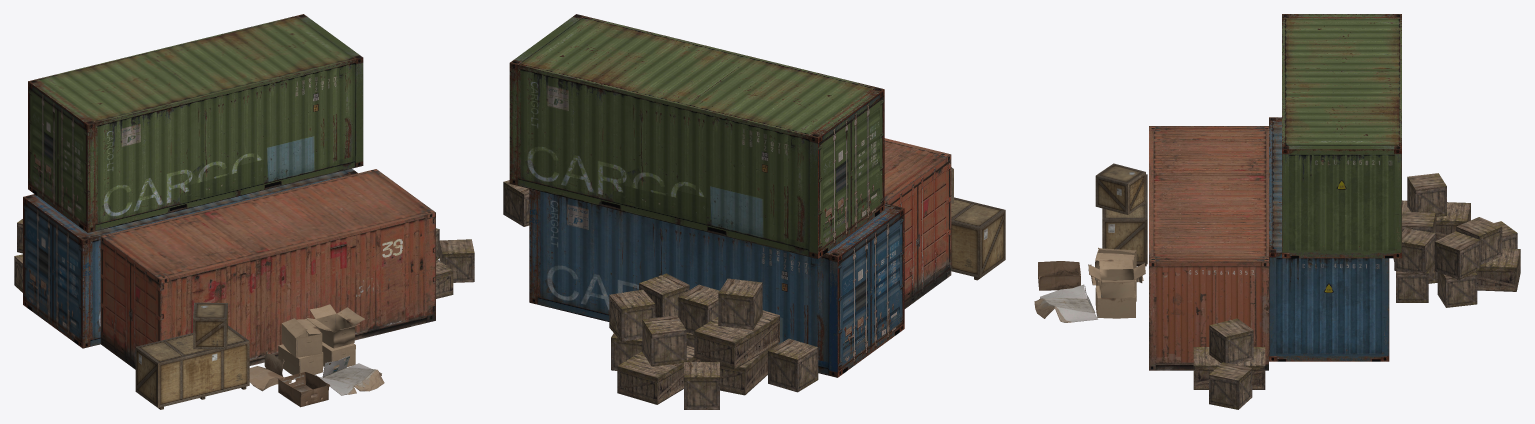
The picture shows the model from 3 angles, left to right: view 1: azimuth 30°, elevation 25°; view 2: azimuth 150°, elevation 25°; view 3: azimuth 270°, elevation 25°; orthographic projection. The views are drawn at different scales.
Visible parts, largest first — view 1: Cargo_container_v1_LD1close (82), MS98(Clone), Cargo_container_v1_LD1close (56), Dirty_cardboard_box_set3 (3), Wooden_box_v2_2 (19), Wooden_box_v1_LD1_SET1 (48), Wooden_box_v2_1 (24), Wooden_box_v1_LD1_SET5 (28); view 2: Cargo_container_v1_LD1close (82), Cargo_container_v1_LD1close (56), Wooden_box_v1_LD1_SET5 (28), MS98(Clone), Wooden_box_v2_2 (19), Wooden_box_v1_LD1_SET1 (48); view 3: Cargo_container_v1_LD1close (82), MS98(Clone), Cargo_container_v1_LD1close (56), Wooden_box_v1_LD1_SET5 (28), Dirty_cardboard_box_set3 (3), Wooden_box_v1_LD1_SET1 (48), Wooden_box_v2_1 (24), Wooden_box_v2_2 (19).
Boxes of the visible parts, left/top/right/bottom form: Cargo_container_v1_LD1close (82): left=28, top=14, right=363, bottom=232; MS98(Clone): left=100, top=169, right=435, bottom=369; Cargo_container_v1_LD1close (56): left=23, top=168, right=357, bottom=348; Dirty_cardboard_box_set3 (3): left=249, top=304, right=384, bottom=407; Wooden_box_v2_2 (19): left=135, top=325, right=249, bottom=409; Wooden_box_v1_LD1_SET1 (48): left=436, top=228, right=474, bottom=298; Wooden_box_v2_1 (24): left=193, top=302, right=227, bottom=349; Wooden_box_v1_LD1_SET5 (28): left=14, top=219, right=22, bottom=292; Cargo_container_v1_LD1close (82): left=509, top=14, right=884, bottom=258; Cargo_container_v1_LD1close (56): left=529, top=188, right=904, bottom=377; Wooden_box_v1_LD1_SET5 (28): left=609, top=273, right=818, bottom=409; MS98(Clone): left=884, top=138, right=951, bottom=308; Wooden_box_v2_2 (19): left=951, top=197, right=1005, bottom=280; Wooden_box_v1_LD1_SET1 (48): left=503, top=180, right=529, bottom=226; Cargo_container_v1_LD1close (82): left=1282, top=14, right=1401, bottom=258; MS98(Clone): left=1149, top=126, right=1268, bottom=370; Cargo_container_v1_LD1close (56): left=1269, top=117, right=1389, bottom=361; Wooden_box_v1_LD1_SET5 (28): left=1393, top=173, right=1520, bottom=307; Dirty_cardboard_box_set3 (3): left=1034, top=247, right=1145, bottom=322; Wooden_box_v1_LD1_SET1 (48): left=1193, top=318, right=1265, bottom=409; Wooden_box_v2_1 (24): left=1095, top=163, right=1145, bottom=214; Wooden_box_v2_2 (19): left=1102, top=174, right=1147, bottom=266.
Bounding box in the file's own units: 11.07 × 6 × 12.13.
Materials: 6 (6 with a texture image).
